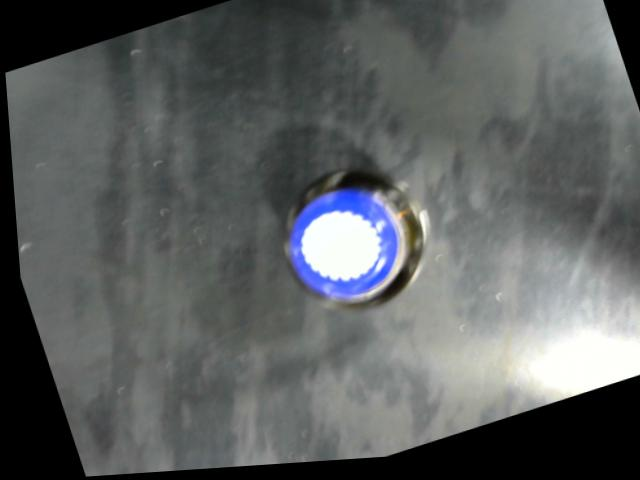glass: (267, 165, 443, 325)
